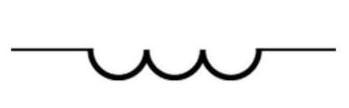inductor: (57, 28, 302, 93)
